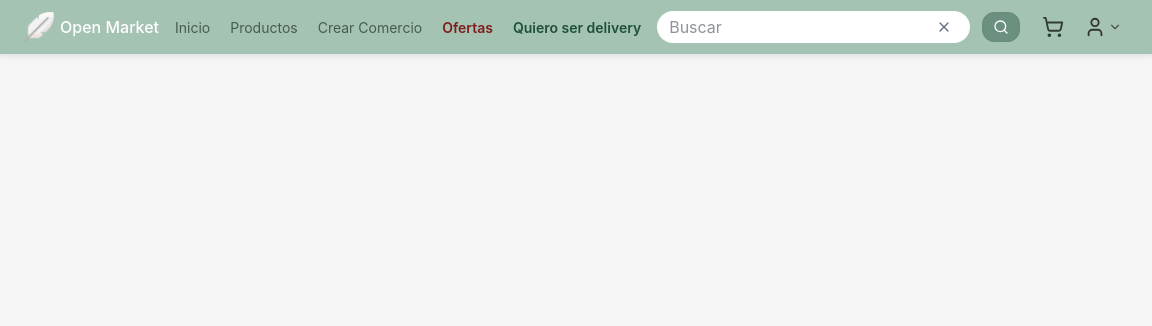
Navbar › muestra los links del perfil al abrir el menú con sesión activa
The image size is (1152, 326).
Click the button named "Menú de cuenta" at (1103, 27), box [1078, 10, 1128, 44]
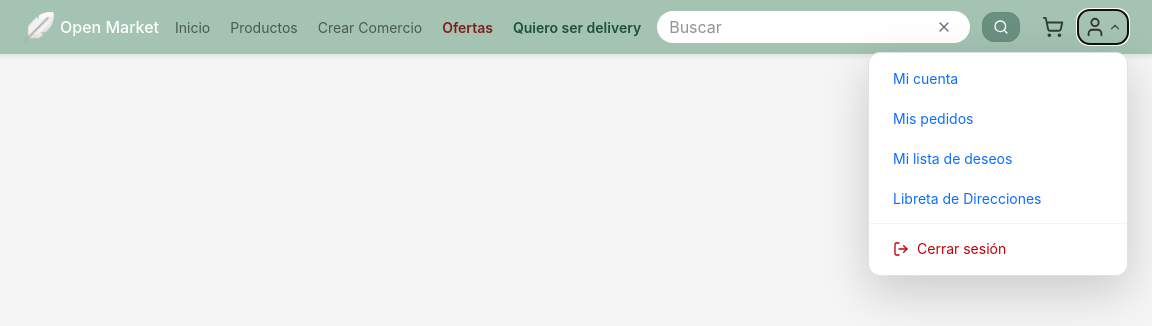
Now the menu item "Mi cuenta" is shown, box [893, 70, 958, 87]
